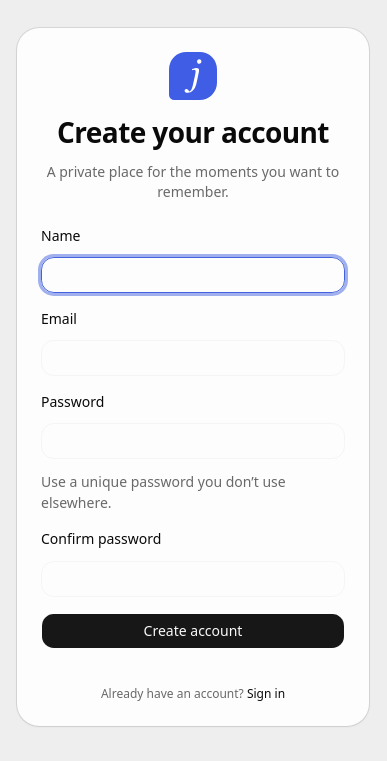
Test: SignUpPage › surfaces every empty or malformed field without sending a request
This screenshot has width=387, height=761.
Click the button "Create account".
click(193, 631)  # box top-left (41, 613), bottom-right (345, 649)
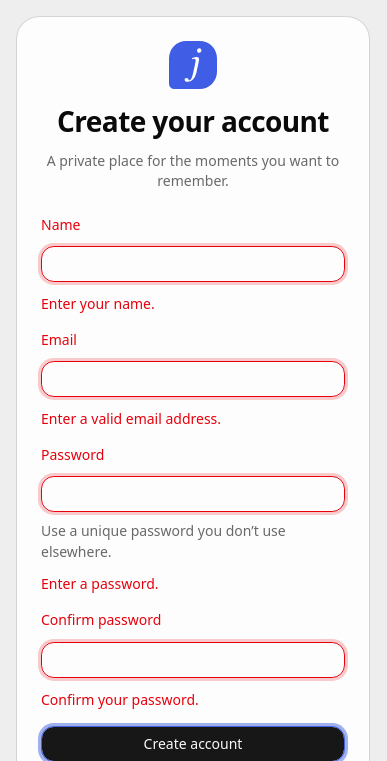
Check: the text "Enter your name." is shown, box top-left (41, 294), bottom-right (155, 313)
Check: the text "Enter a valid email address." is shown, box top-left (41, 409), bottom-right (221, 428)
Check: the text "Enter a password." is shown, box top-left (41, 574), bottom-right (158, 593)
